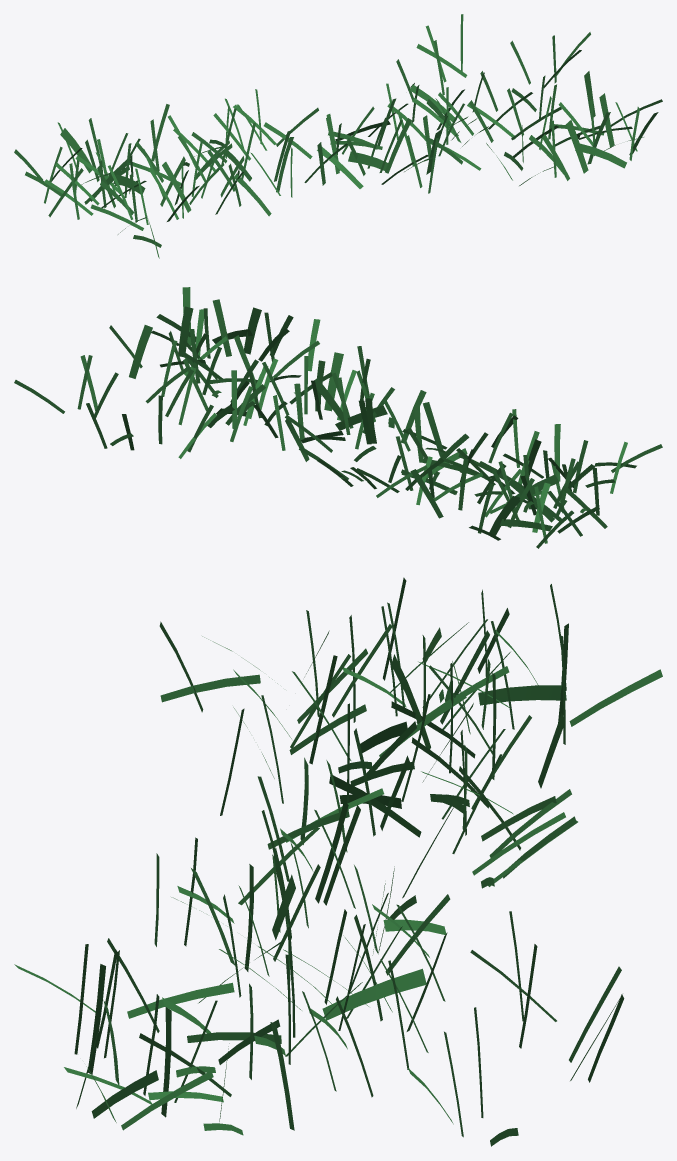
File: boss_grass.fbx
3 renders of one model, top to bottom at view 1: azimuth 30°, elevation 25°; view 2: azimuth 150°, elevation 25°; view 3: azimuth 270°, elevation 25°, orthographic. The views are drawn at different scales.
Visible parts, largest first — view 1: grass; view 2: grass; view 3: grass.
Part boxes in pixels (<box>): grass: <box>14,14,662,258</box>; grass: <box>14,287,662,548</box>; grass: <box>14,577,662,1146</box>.
Bounding box in the file's own units: 1.18 × 0.1103 × 0.6094.
